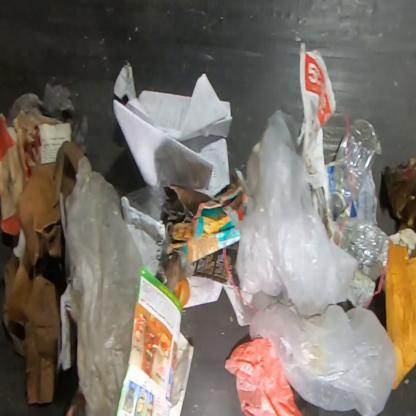cardboard: (2, 141, 84, 404), (0, 109, 67, 241), (160, 167, 249, 264), (384, 237, 415, 393), (381, 155, 416, 228)
rigid_plastic: (326, 118, 383, 220), (343, 220, 389, 282)
soft_plastic: (234, 107, 396, 415), (59, 155, 145, 416), (6, 83, 88, 156)
